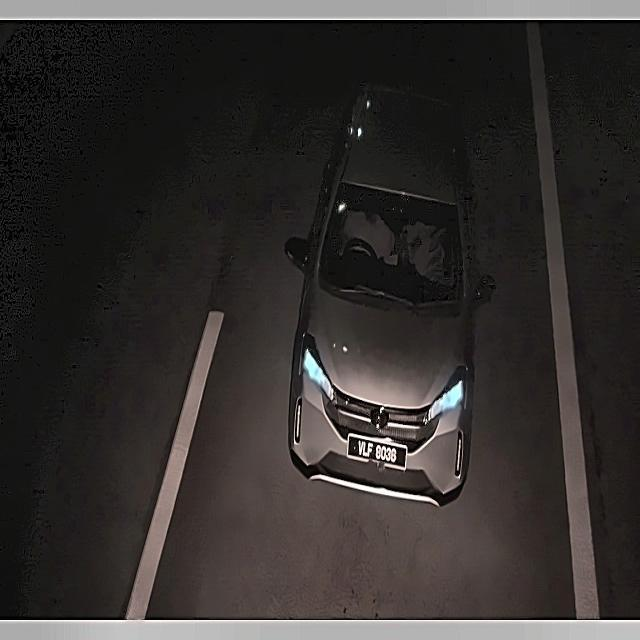car: (347, 431, 405, 474)
